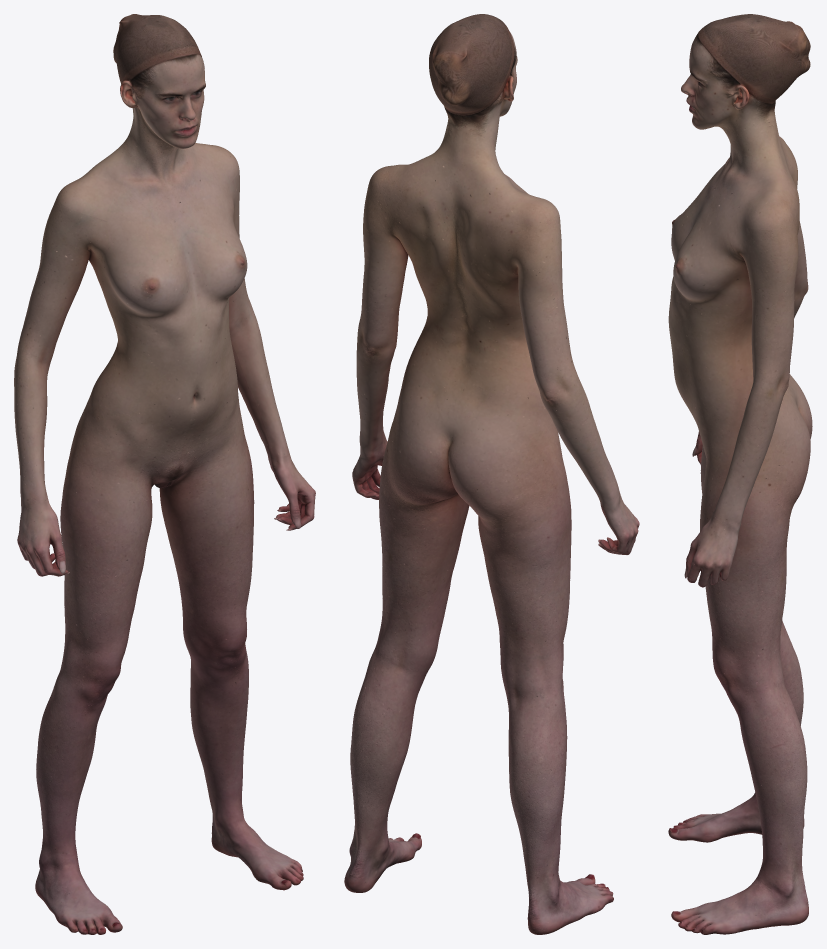
The model's file is colour-female-06.glb.
3 renders of one model, left to right at view 1: azimuth 30°, elevation 25°; view 2: azimuth 150°, elevation 25°; view 3: azimuth 270°, elevation 25°, orthographic.
Parts seen in each view (by area): view 1: Colour Female 06 P01.OBJ; view 2: Colour Female 06 P01.OBJ; view 3: Colour Female 06 P01.OBJ.
Boxes of the visible parts, x1,y1,x2,y2 form: Colour Female 06 P01.OBJ: (14, 14, 315, 934); Colour Female 06 P01.OBJ: (344, 14, 639, 934); Colour Female 06 P01.OBJ: (668, 14, 812, 934).
Size of the model in its own units: 0.5974 by 1.75 by 0.2662.
Materials: 1 (1 with a texture image).
